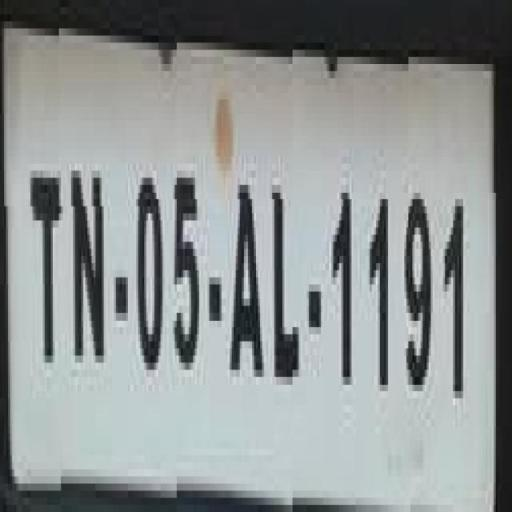number plate: (4, 21, 487, 512)
